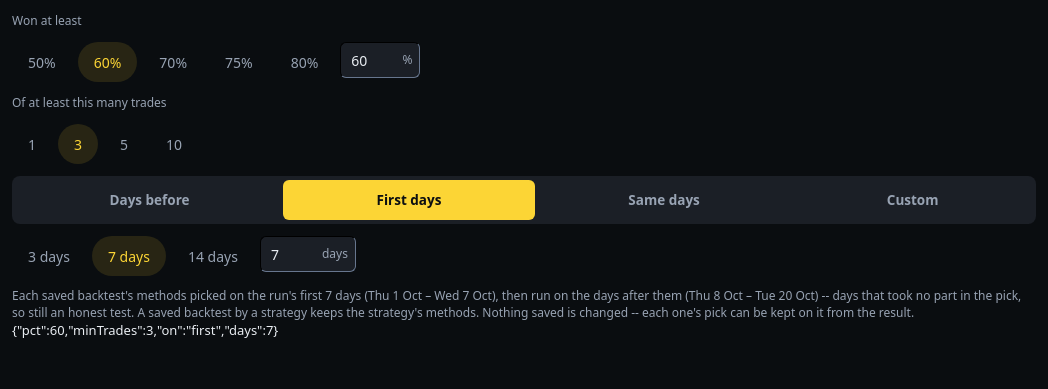
Scenario: Methods by win %, for the run › [critical] Custom: a first and a last day to pick on -- said with the days run on after them, never one of the pick
Click the radio button with aria-label "days you choose". click: (913, 200)
box: [793,180,1032,220]
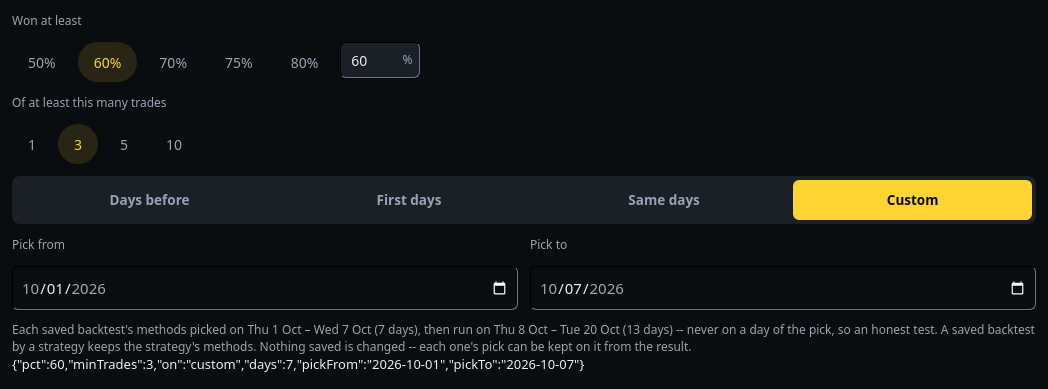
Type "2026-10-03" into the date field labelled "Pick from". click: (265, 288)
box: [12,266,518,310]
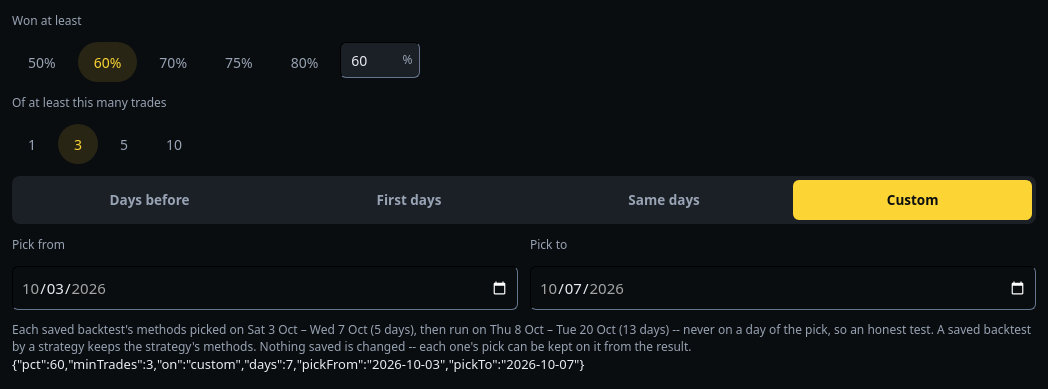
Type "2026-10-12" into the date field labelled "Pick to". click: (783, 288)
box: [530,266,1036,310]
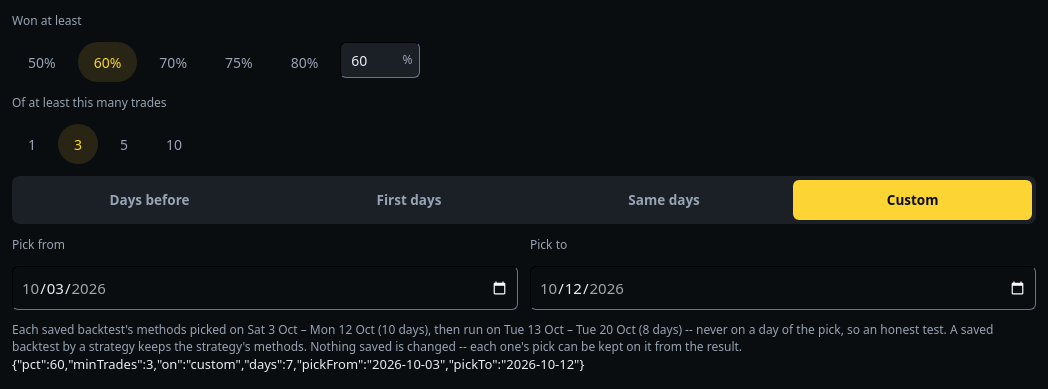
Check: the text "picked on Sat 3 Oct – Mon 12 Oct (10 days), then run on Tue 13 Oct – Tue 20 Oct (8 days) -- never on a day of the pi" is shown, box [12,321,947,338]
